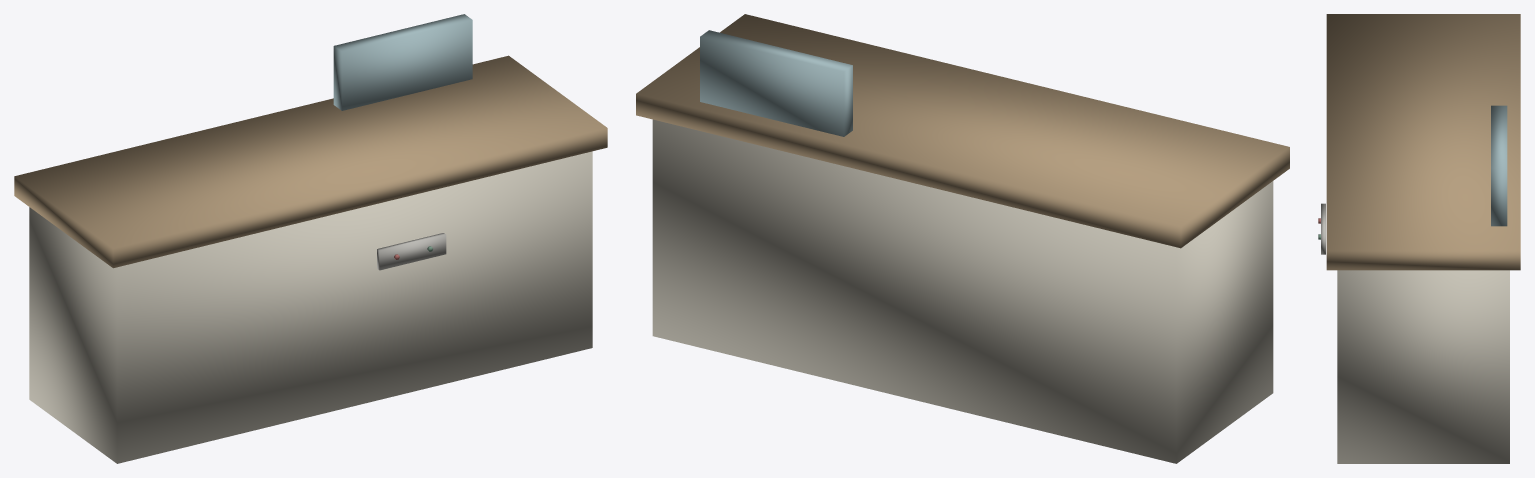
The model's file is pharmacy_pickup_counter__reinforced.glb.
The picture shows the model from 3 angles, left to right: view 1: azimuth 30°, elevation 25°; view 2: azimuth 150°, elevation 25°; view 3: azimuth 270°, elevation 25°; orthographic projection. The views are drawn at different scales.
Visible parts, largest first — view 1: world; view 2: world; view 3: world.
Boxes of the visible parts, bbox=[...] form: world: bbox=[14, 14, 607, 463]; world: bbox=[636, 14, 1289, 463]; world: bbox=[1318, 14, 1520, 463].
Size of the model in its own units: 2.14 by 1.16 by 0.7735.
